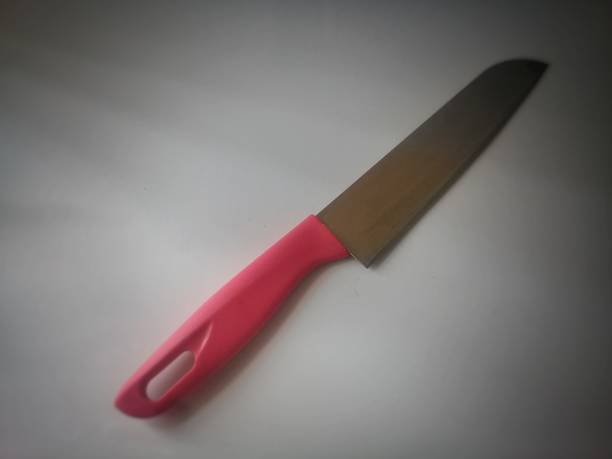knife: (106, 53, 555, 422)
